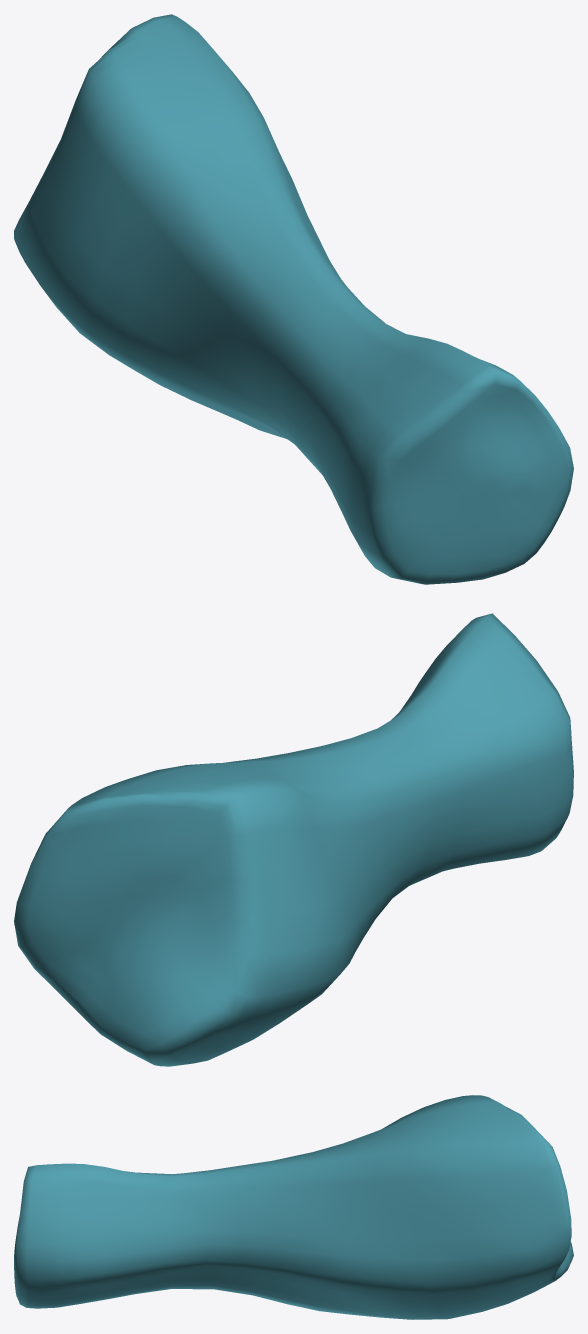
Rendered from VIS_Alpha_Surface_006.dae.
3 views of the same model, one above another, from view 1: azimuth 30°, elevation 25°; view 2: azimuth 150°, elevation 25°; view 3: azimuth 270°, elevation 25° (orthographic). The views are drawn at different scales.
Parts seen in each view (by area): view 1: VIS_Alpha_Surface_006; view 2: VIS_Alpha_Surface_006; view 3: VIS_Alpha_Surface_006.
Part boxes in pixels (left/top/right/bottom): VIS_Alpha_Surface_006: left=14, top=14, right=573, bottom=584; VIS_Alpha_Surface_006: left=14, top=613, right=573, bottom=1066; VIS_Alpha_Surface_006: left=14, top=1095, right=573, bottom=1319.
Bounding box in the file's own units: 14.44 × 42.12 × 17.14.
